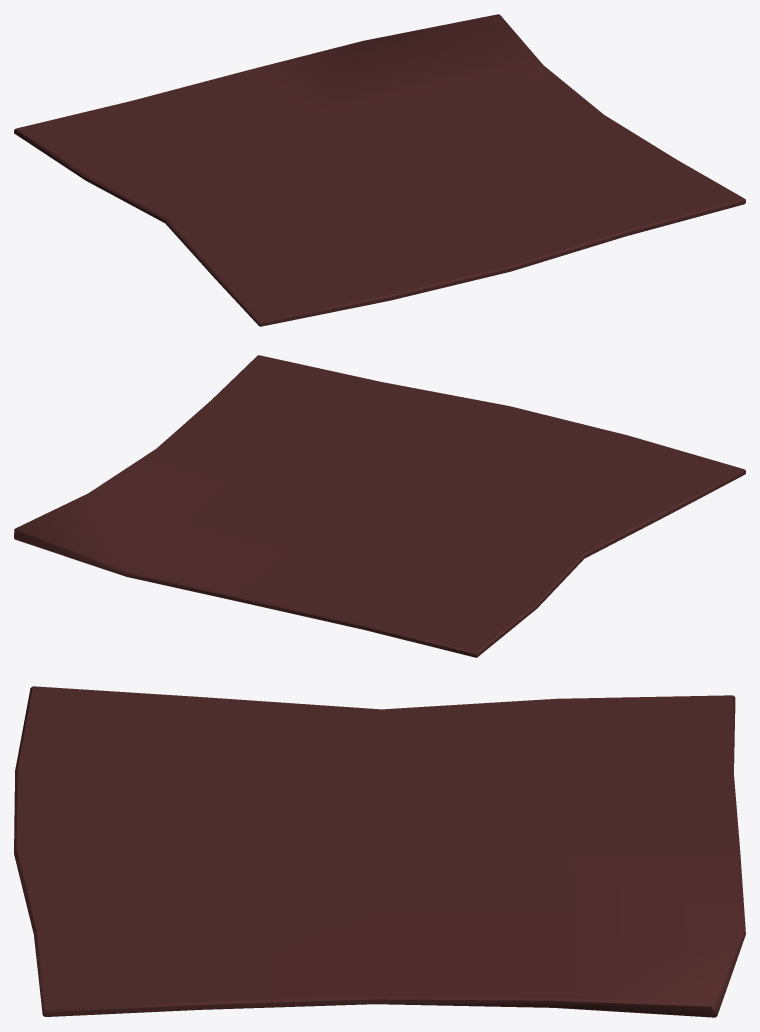
File: Carpet.fbx
3 renders of one model, top to bottom at view 1: azimuth 30°, elevation 25°; view 2: azimuth 150°, elevation 25°; view 3: azimuth 270°, elevation 25°, orthographic. The views are drawn at different scales.
Visible parts, largest first — view 1: Plane.003; view 2: Plane.003; view 3: Plane.003.
Boxes of the visible parts, left/top/right/bottom form: Plane.003: left=14, top=14, right=745, bottom=326; Plane.003: left=14, top=355, right=745, bottom=657; Plane.003: left=14, top=686, right=745, bottom=1017.
Bounding box in the file's own units: 300 × 6.14 × 286.
